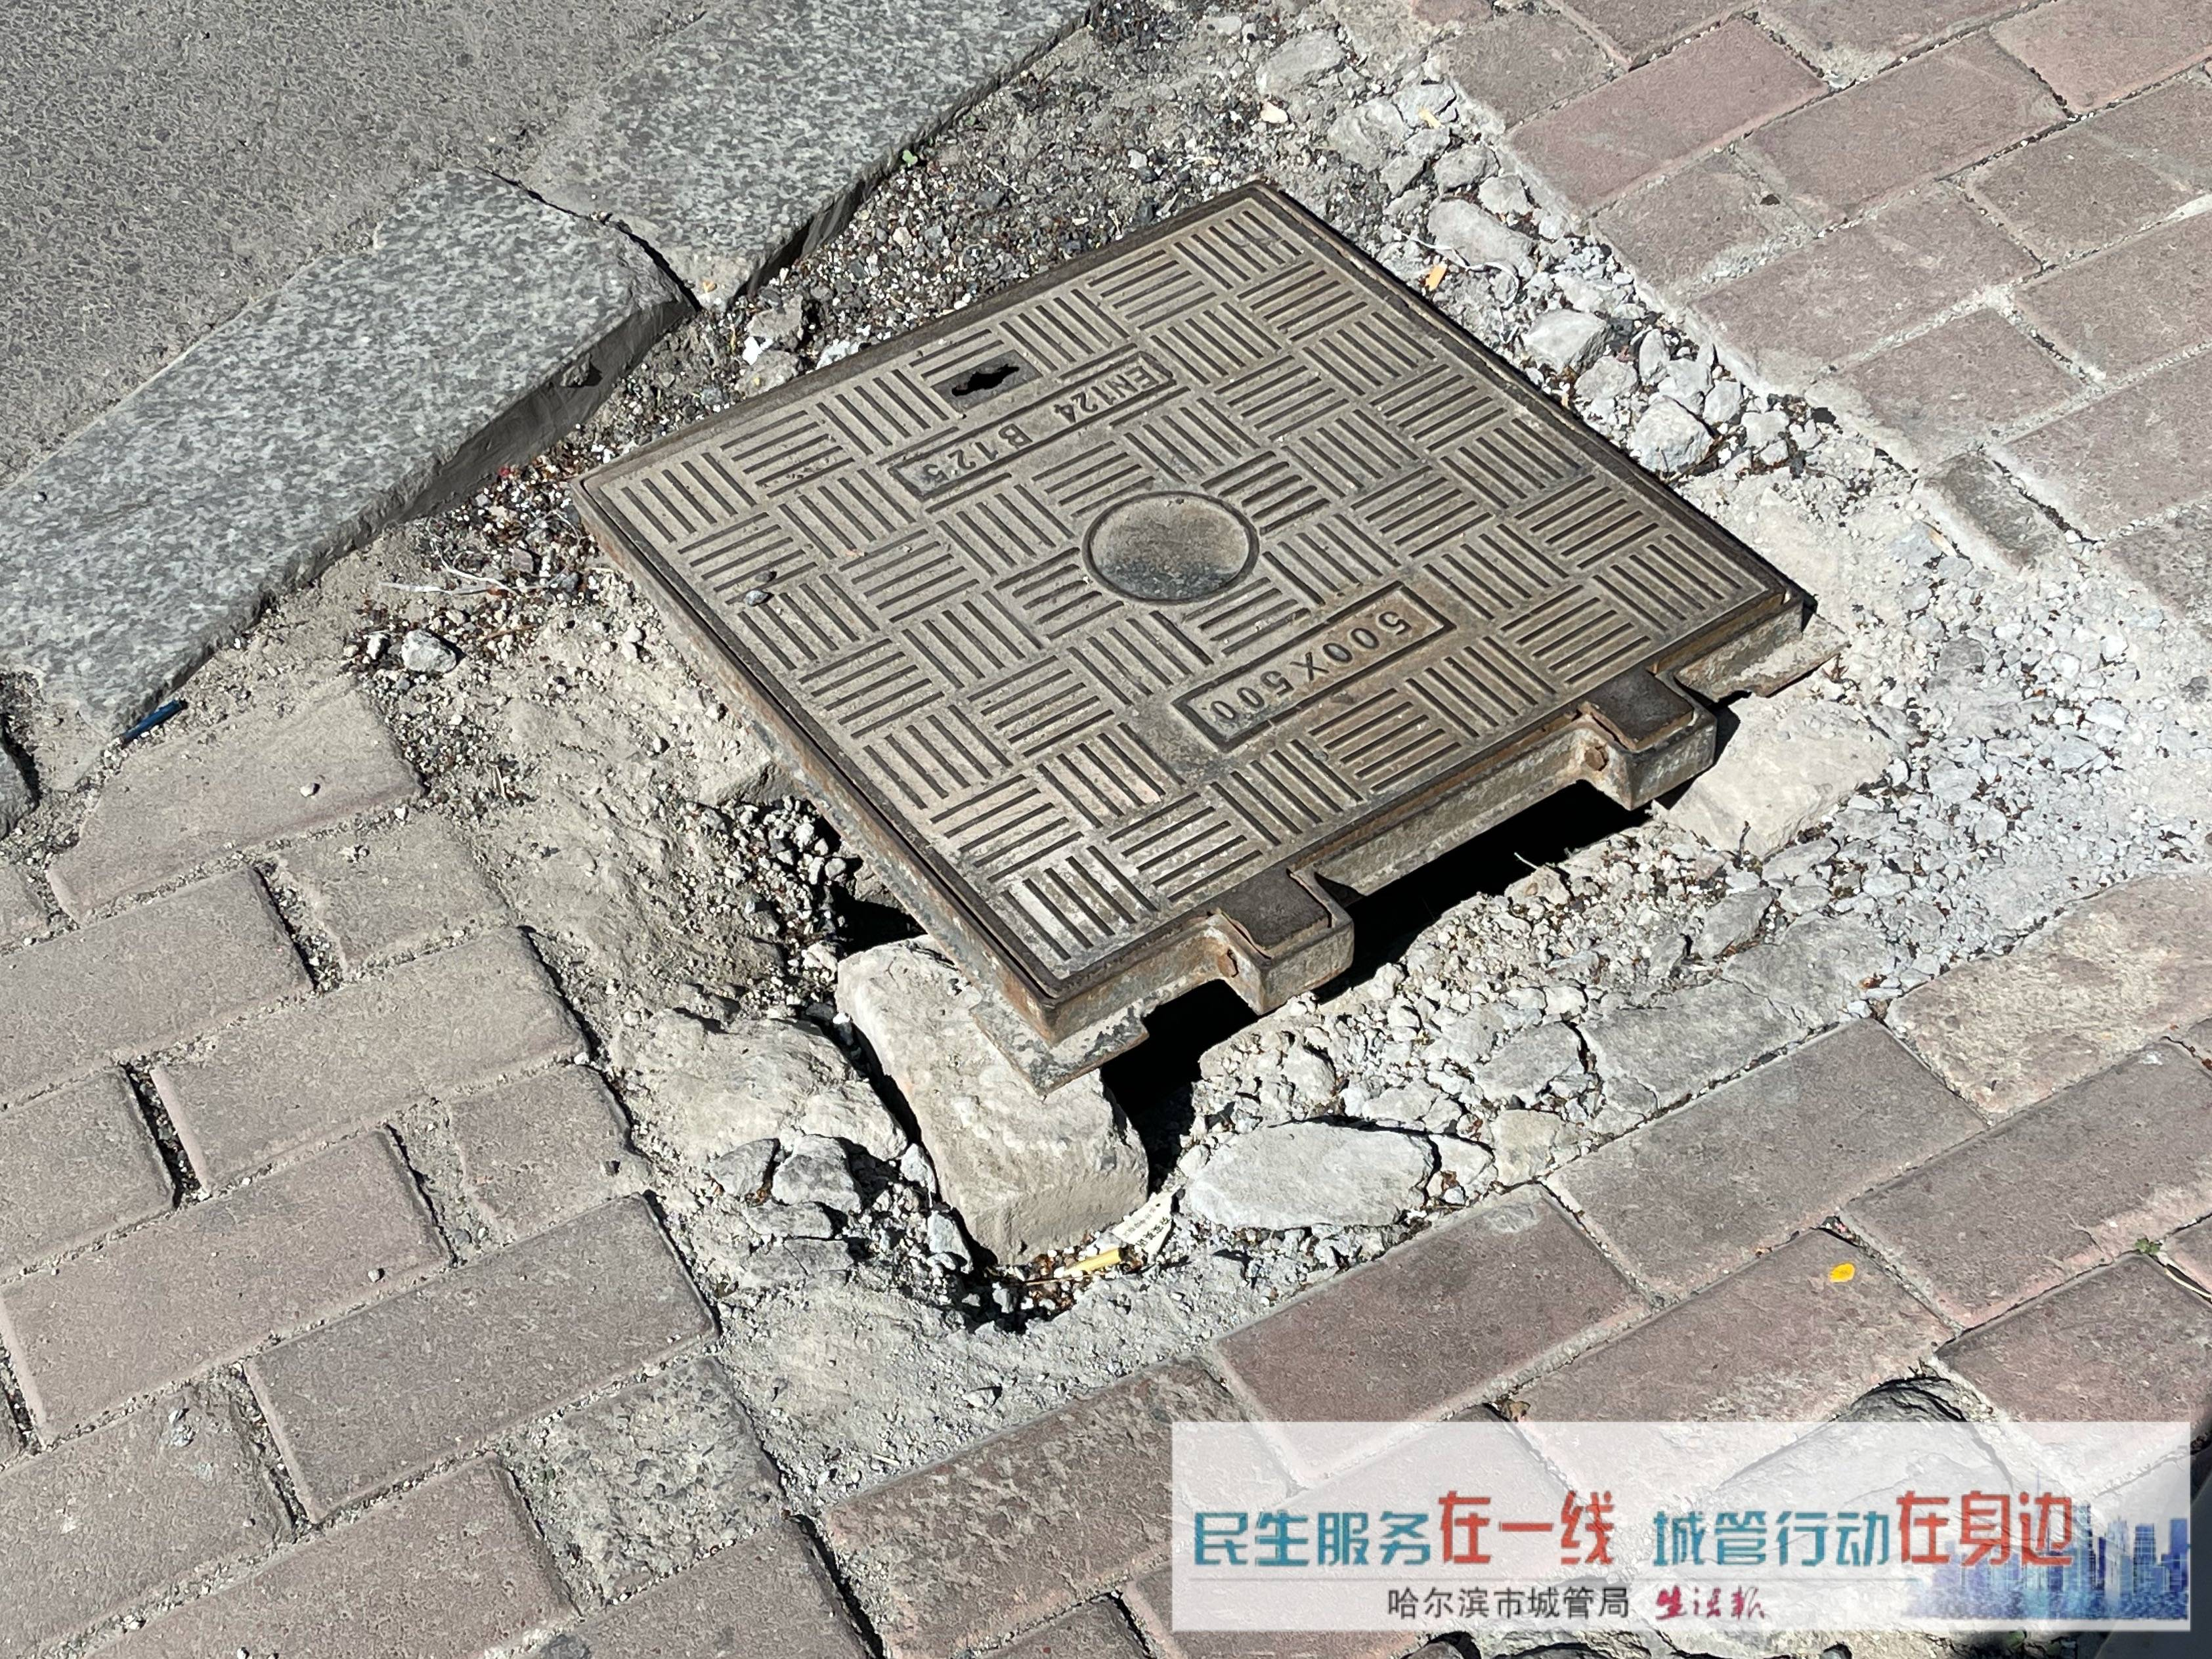circle: (347, 169, 2093, 1326)
